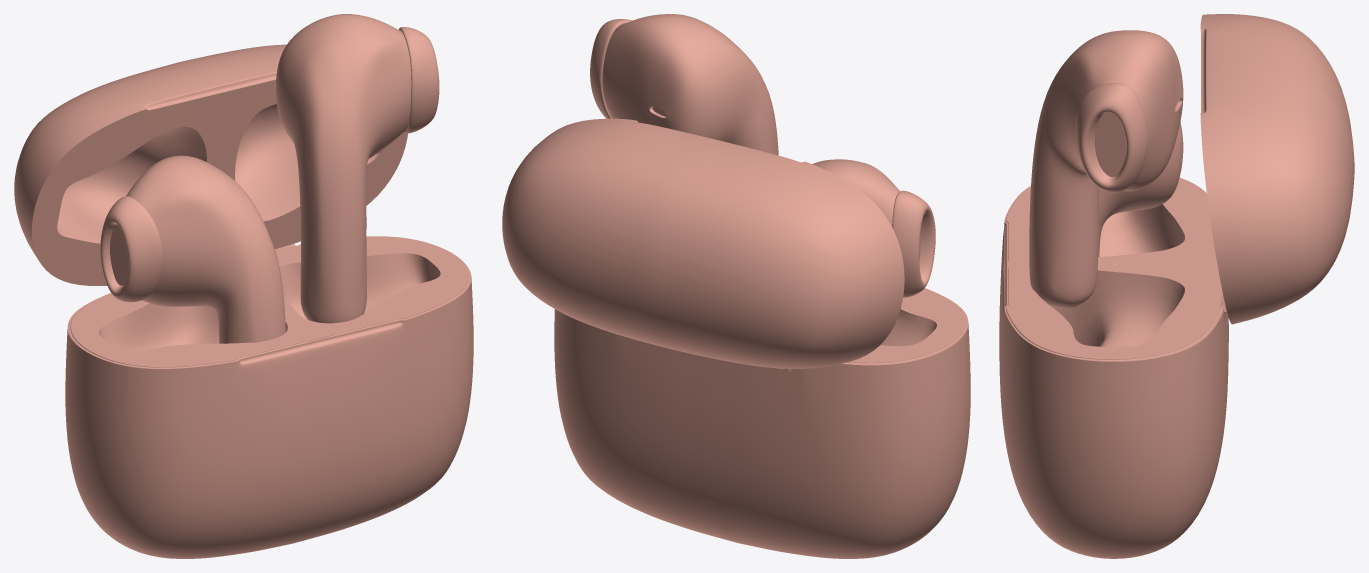
The model's file is lenovo_lp40_pro_tws.glb.
3 renders of one model, left to right at view 1: azimuth 30°, elevation 25°; view 2: azimuth 150°, elevation 25°; view 3: azimuth 270°, elevation 25°, orthographic. The views are drawn at different scales.
Parts seen in each view (by area): view 1: bottom case plane +typec.004, top case plaane.002, seal.007, seal.005, seal.008; view 2: bottom case plane +typec.004, top case plaane.002, seal.007, seal.008, seal.005; view 3: bottom case plane +typec.004, top case plaane.002, seal.007, seal.008, seal.005.
Part boxes in pixels (x1=…): bottom case plane +typec.004: x1=65, y1=236, x2=473, y2=558; top case plaane.002: x1=14, y1=44, x2=407, y2=285; seal.007: x1=276, y1=14, x2=411, y2=323; seal.005: x1=110, y1=155, x2=285, y2=343; seal.008: x1=100, y1=27, x2=439, y2=302; bottom case plane +typec.004: x1=554, y1=288, x2=970, y2=558; top case plaane.002: x1=502, y1=118, x2=904, y2=368; seal.007: x1=602, y1=14, x2=778, y2=155; seal.008: x1=590, y1=19, x2=935, y2=297; seal.005: x1=812, y1=159, x2=920, y2=262; bottom case plane +typec.004: x1=999, y1=177, x2=1228, y2=558; top case plaane.002: x1=1200, y1=14, x2=1354, y2=324; seal.007: x1=1029, y1=30, x2=1183, y2=308; seal.008: x1=1075, y1=83, x2=1147, y2=192; seal.005: x1=1098, y1=121, x2=1183, y2=257.
Bounding box in the file's own units: 0.4991 × 0.6121 × 0.3827.
